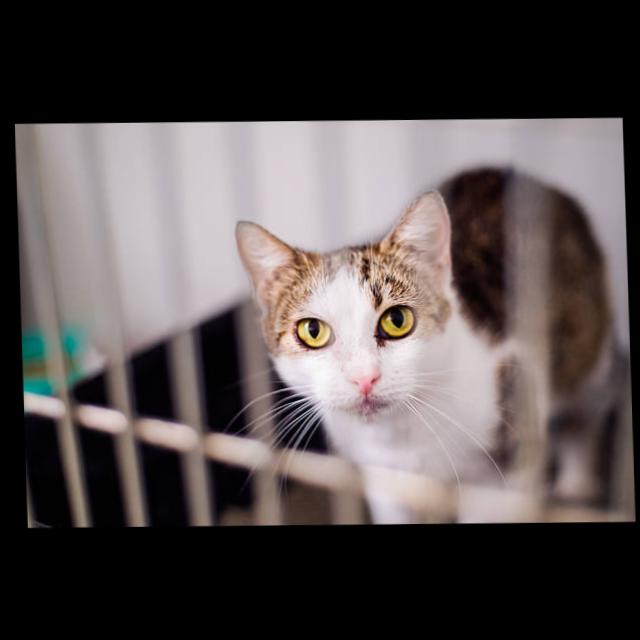animals: (225, 186, 461, 439)
